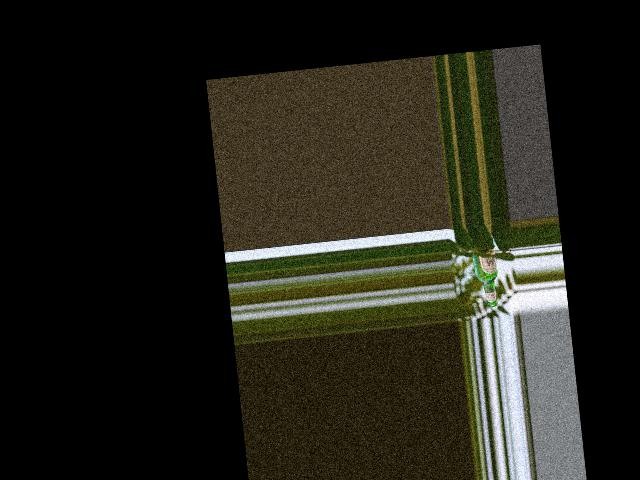beer: (472, 246, 501, 308)
